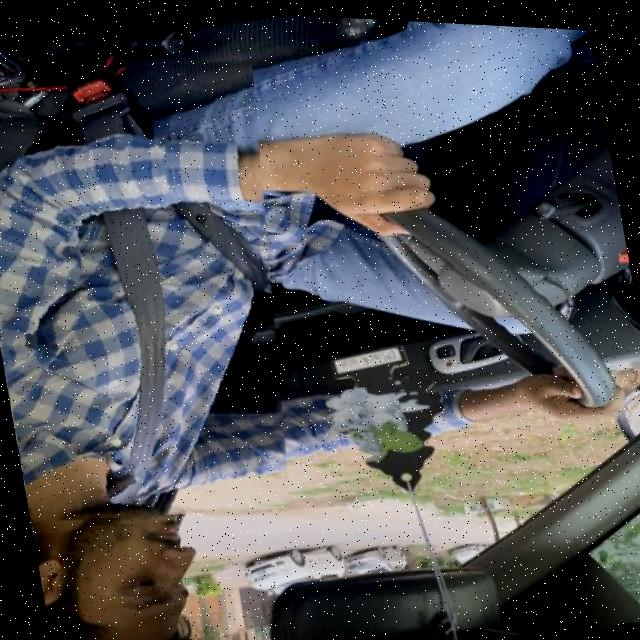seatbelt: (0, 30, 319, 546)
